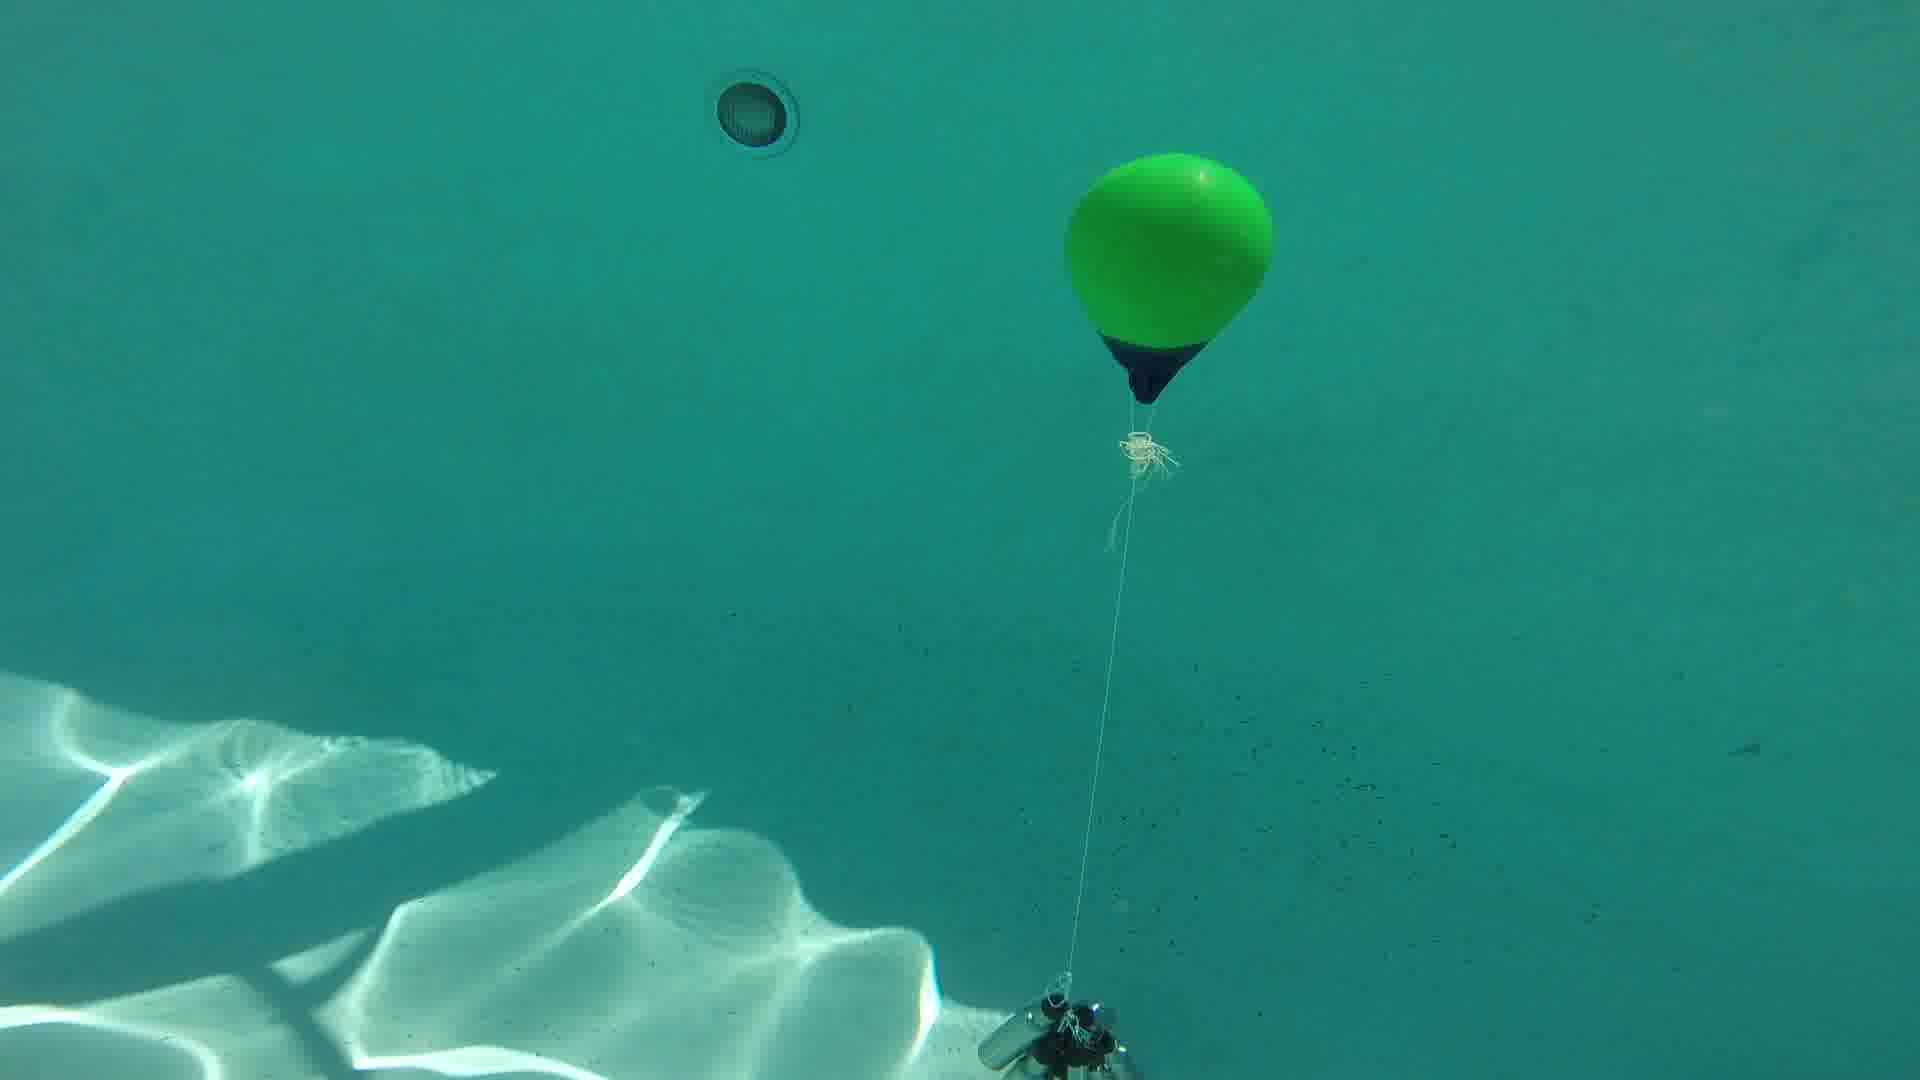yellow_buoy: (1063, 150, 1275, 406)
